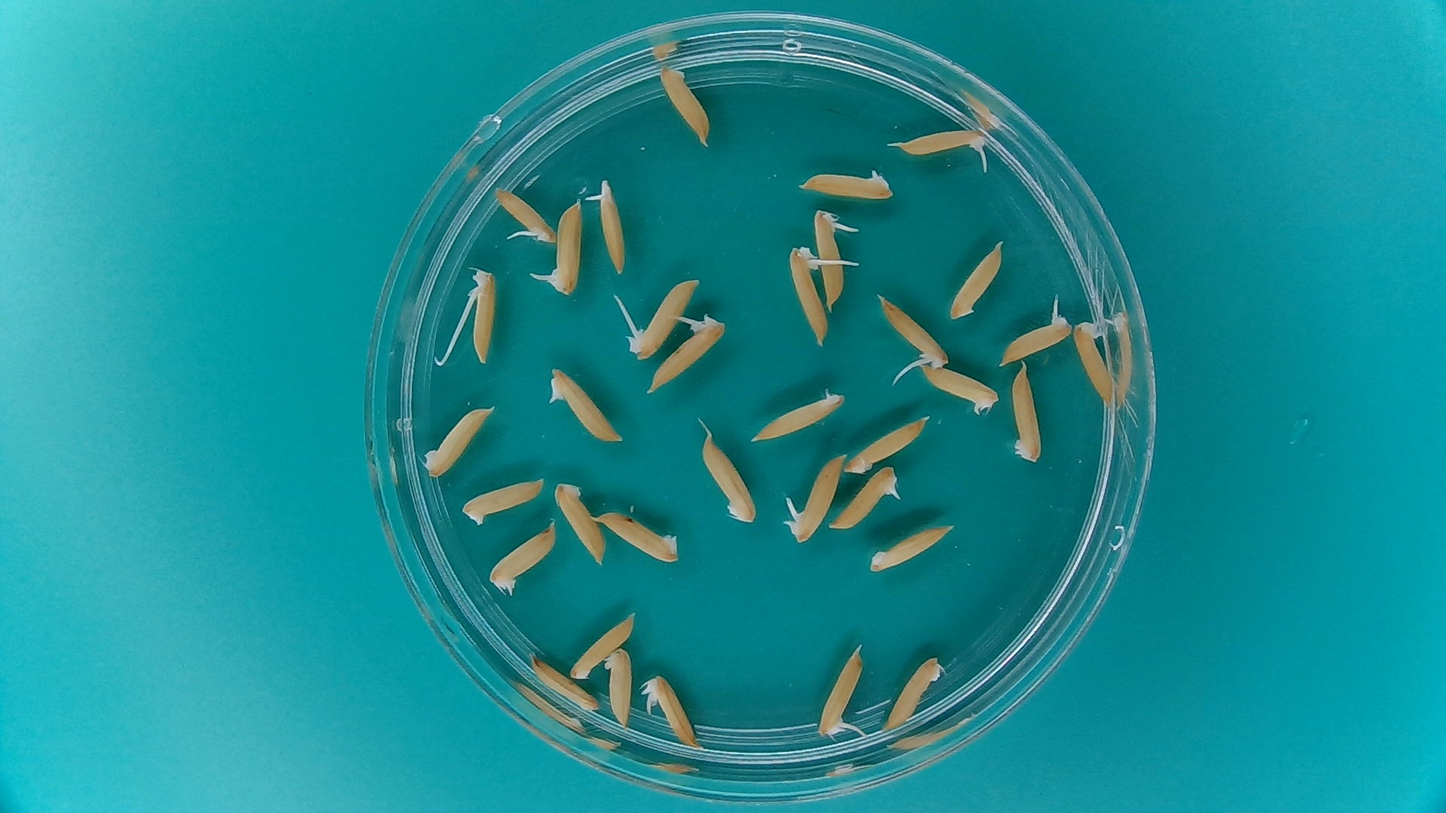no: (697, 430, 761, 527), (419, 403, 496, 480), (844, 413, 933, 475), (655, 61, 715, 148), (569, 608, 638, 682), (595, 507, 682, 565), (551, 477, 607, 567), (882, 652, 945, 732), (866, 519, 955, 574), (947, 238, 1005, 321), (459, 473, 547, 527), (1070, 314, 1119, 410), (526, 651, 601, 711), (917, 364, 1002, 416), (1006, 361, 1046, 467), (603, 643, 634, 729)
yes: (541, 361, 625, 445), (627, 272, 702, 358), (873, 290, 952, 371), (782, 450, 847, 546), (647, 317, 725, 394), (487, 517, 560, 598), (828, 464, 905, 533), (785, 240, 832, 349), (816, 641, 867, 740), (752, 388, 843, 443), (997, 300, 1072, 364), (811, 203, 856, 309), (640, 676, 703, 749), (587, 173, 630, 278), (541, 196, 585, 298), (892, 120, 993, 163), (491, 181, 558, 245), (466, 263, 500, 366), (795, 169, 897, 202)
